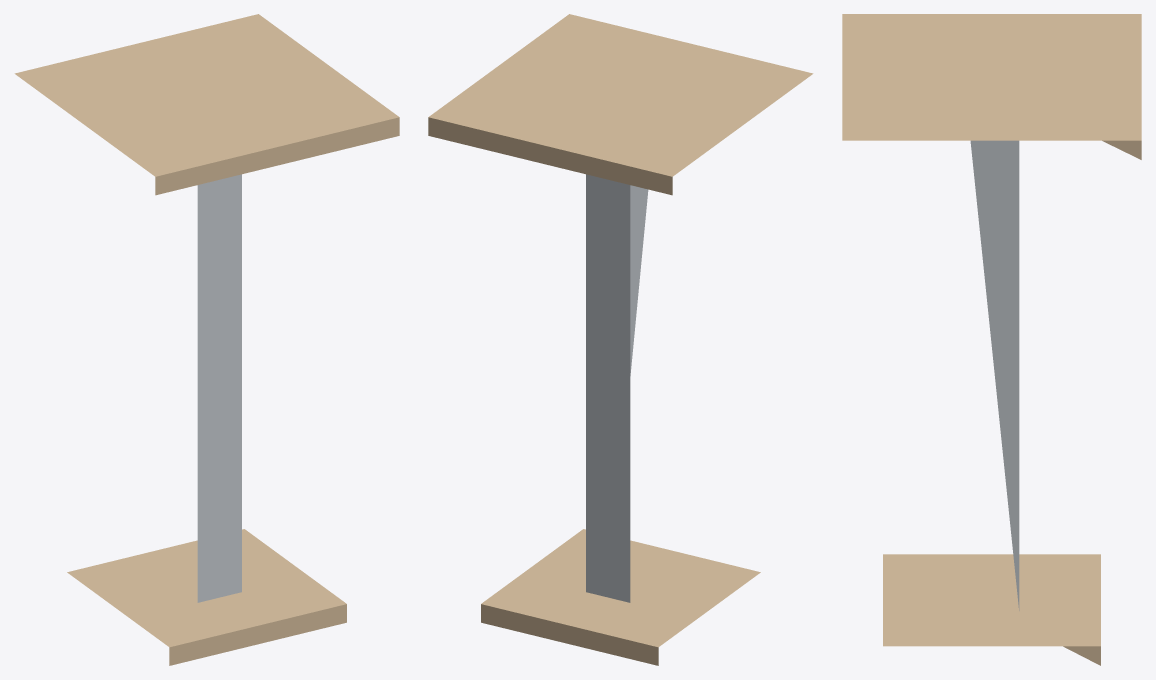
The model's file is cocktail-table.glb.
3 renders of one model, left to right at view 1: azimuth 30°, elevation 25°; view 2: azimuth 150°, elevation 25°; view 3: azimuth 270°, elevation 25°, orthographic. The views are drawn at different scales.
Size of the model in its own units: 0.55 by 1.1 by 0.55.
